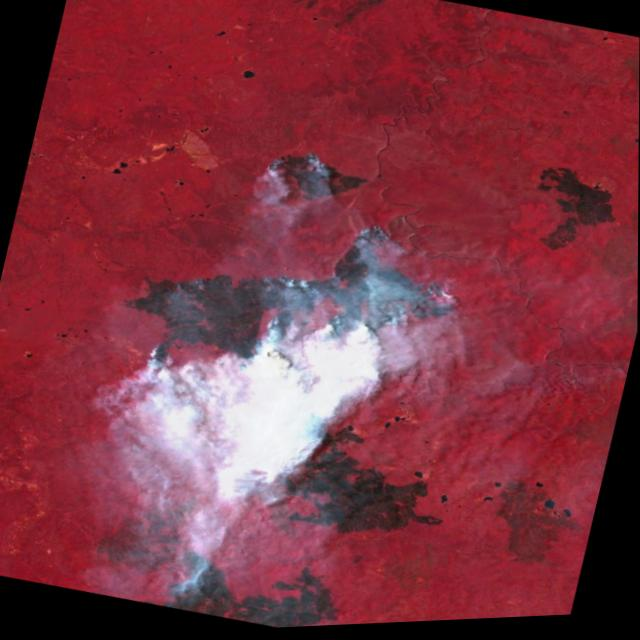fire: (123, 116, 479, 446)
